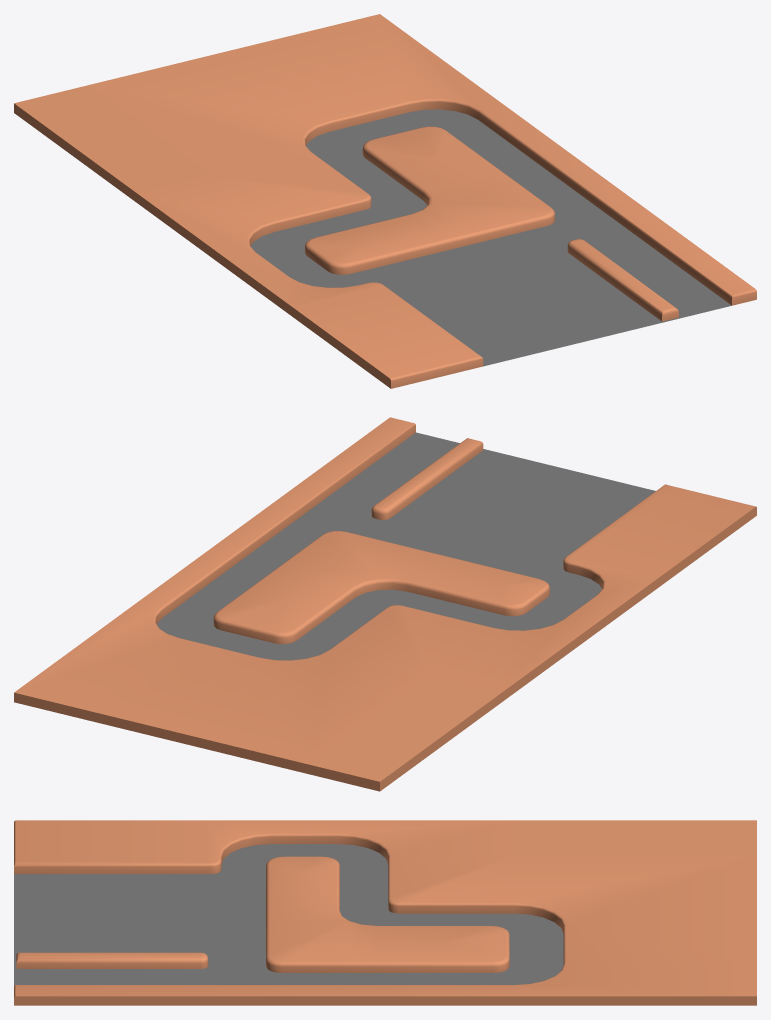
Rendered from Color Bus (1).fbx.
3 views of the same model, one above another, from view 1: azimuth 30°, elevation 25°; view 2: azimuth 150°, elevation 25°; view 3: azimuth 270°, elevation 25° (orthographic).
Parts seen in each view (by area): view 1: Plane.001, Plane; view 2: Plane.001, Plane; view 3: Plane.001, Plane.
Part boxes in pixels (x1,y1,x2,y2): Plane.001: [14, 14, 756, 388]; Plane: [250, 109, 731, 366]; Plane.001: [14, 417, 756, 791]; Plane: [156, 432, 655, 660]; Plane.001: [14, 820, 756, 1005]; Plane: [14, 844, 563, 985].
Size of the model in its own units: 1727 by 43.74 by 3081.
